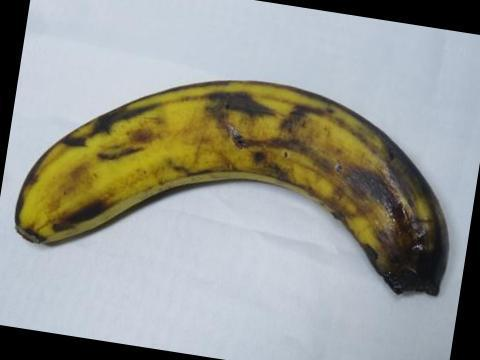overripe: (11, 70, 475, 322)
rotten: (350, 157, 457, 312)
